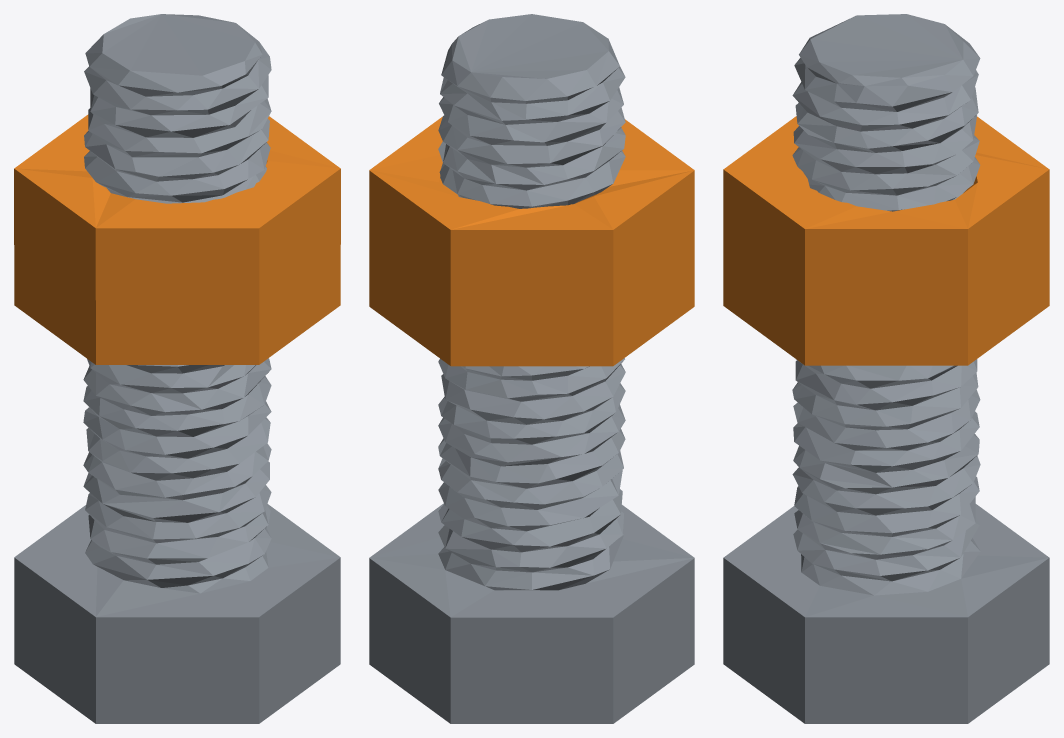
File: tornillo.glb
3 views of the same model, side by side, from view 1: azimuth 30°, elevation 25°; view 2: azimuth 150°, elevation 25°; view 3: azimuth 270°, elevation 25° (orthographic).
Visible parts, largest first — view 1: Tornillo, Tuerca; view 2: Tornillo, Tuerca; view 3: Tornillo, Tuerca.
Boxes of the visible parts, x1,y1,x2,y2 form: Tornillo: [14, 14, 340, 723]; Tuerca: [14, 114, 340, 364]; Tornillo: [369, 14, 694, 723]; Tuerca: [369, 116, 694, 366]; Tornillo: [723, 14, 1049, 723]; Tuerca: [723, 116, 1049, 365].
Bounding box in the file's own units: 0.03 × 0.0725 × 0.0346.
